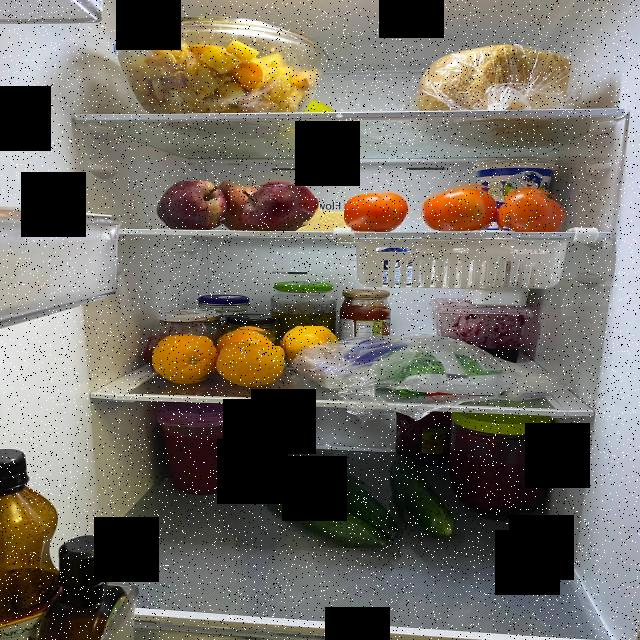Apple: (244, 185, 320, 230), (154, 181, 230, 226), (217, 183, 263, 224)
Cucumber: (262, 478, 406, 548), (298, 452, 408, 528), (398, 459, 466, 547)
Orange: (218, 340, 288, 383), (150, 336, 213, 383), (286, 326, 332, 358), (218, 326, 282, 346)
Tomato: (419, 181, 505, 230), (344, 190, 424, 232), (498, 189, 568, 232)
